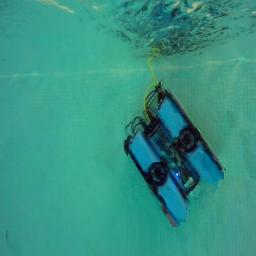front: (123, 90, 226, 226)
